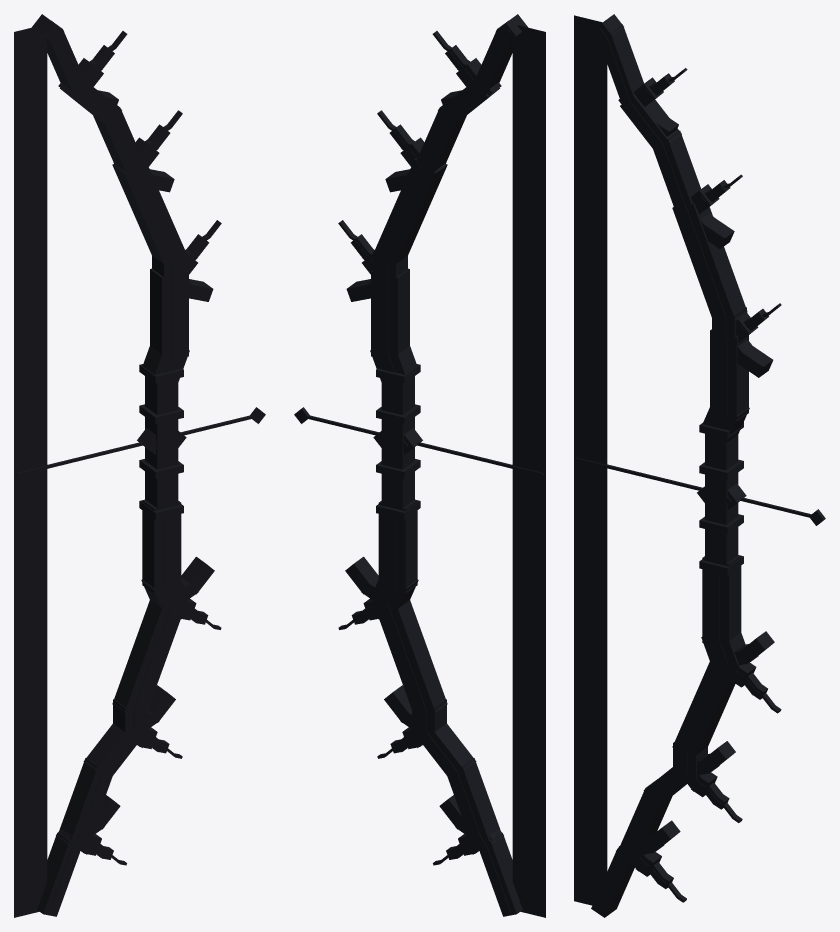
The model's file is requiem_greatbow_pulling_0_smooth.obj.
3 renders of one model, left to right at view 1: azimuth 30°, elevation 25°; view 2: azimuth 150°, elevation 25°; view 3: azimuth 330°, elevation 25°, orthographic.
Visible parts, largest first — view 1: requiem_greatbow_pulling_0; view 2: requiem_greatbow_pulling_0; view 3: requiem_greatbow_pulling_0.
Boxes of the visible parts, x1=… form: requiem_greatbow_pulling_0: x1=14, y1=14, x2=265, y2=917; requiem_greatbow_pulling_0: x1=294, y1=14, x2=545, y2=917; requiem_greatbow_pulling_0: x1=574, y1=14, x2=825, y2=917.
Size of the model in its own units: 0.8193 by 2.79 by 0.0928.
